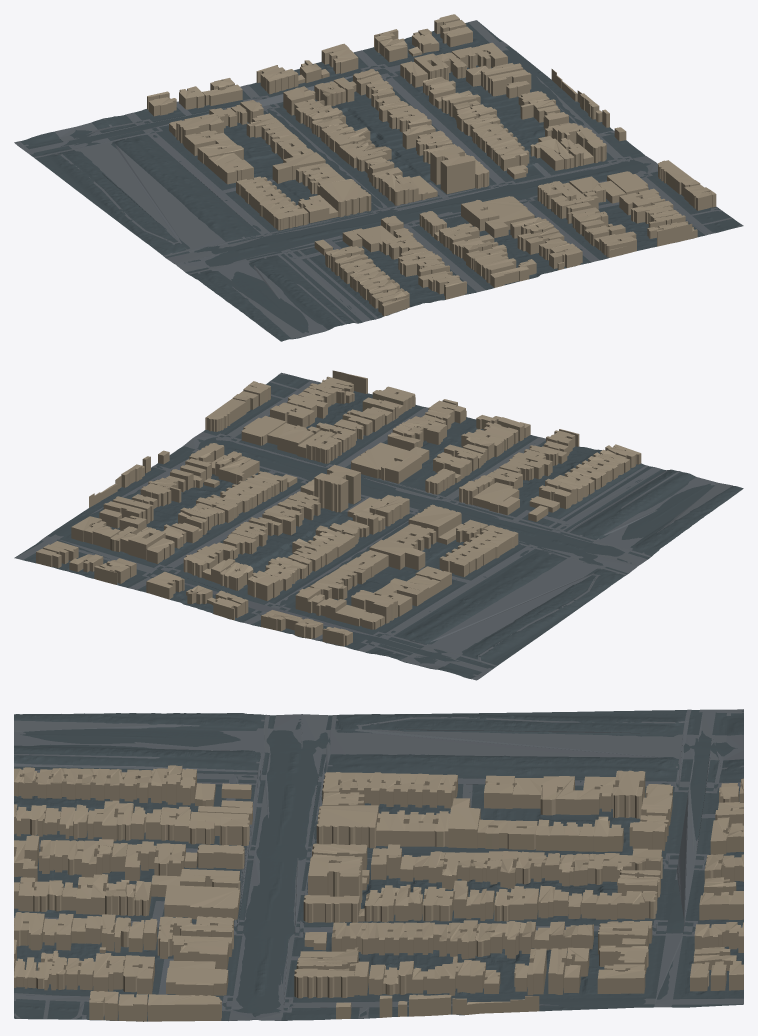
File: epsg26910-1423-10889.lod0.glb
The picture shows the model from 3 angles, top to bottom: view 1: azimuth 30°, elevation 25°; view 2: azimuth 150°, elevation 25°; view 3: azimuth 270°, elevation 25°; orthographic projection. The views are drawn at different scales.
Parts seen in each view (by area): view 1: epsg26910-1423-10889-lod0; view 2: epsg26910-1423-10889-lod0; view 3: epsg26910-1423-10889-lod0.
Boxes of the visible parts, x1=… form: epsg26910-1423-10889-lod0: x1=14, y1=14, x2=743, y2=341; epsg26910-1423-10889-lod0: x1=14, y1=370, x2=743, y2=680; epsg26910-1423-10889-lod0: x1=14, y1=709, x2=743, y2=1021.
Bounding box in the file's own units: 384 × 23.89 × 384.
